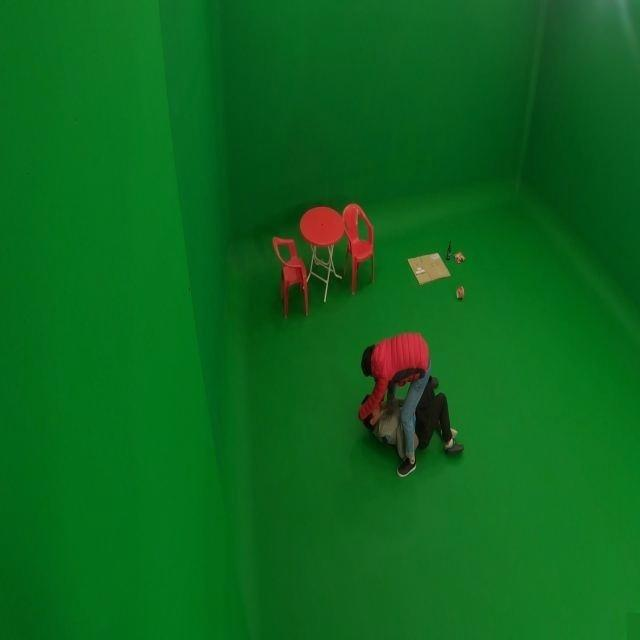fight: (355, 323, 463, 478)
